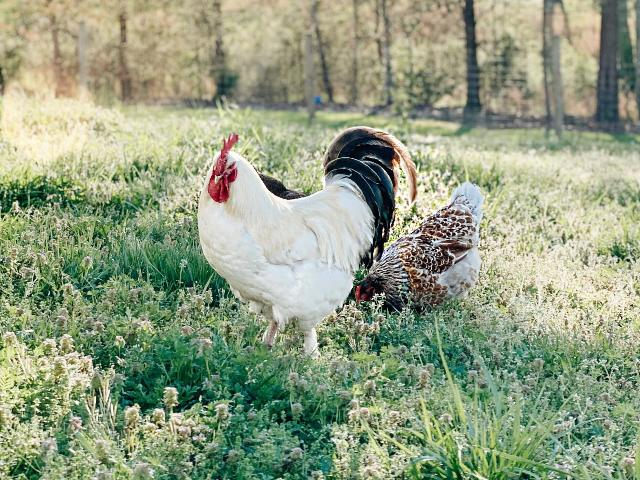Chicken: (198, 126, 418, 357), (354, 182, 485, 315)
